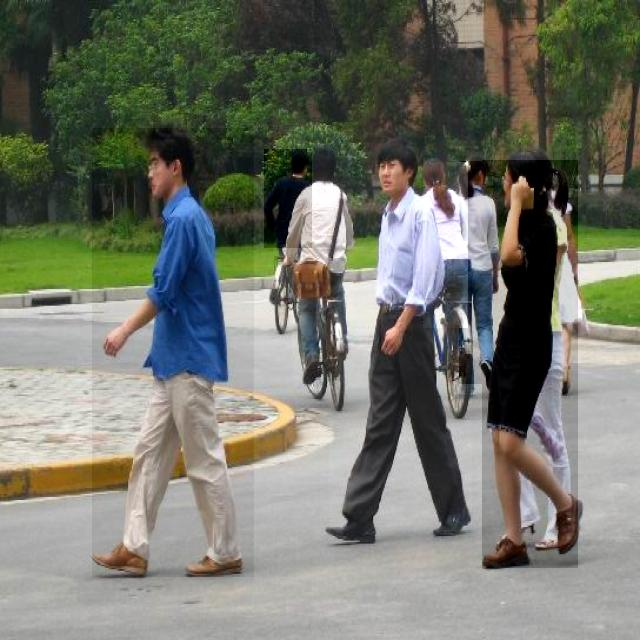with scooter: (92, 128, 254, 577), (329, 142, 472, 545), (482, 160, 578, 568), (292, 143, 353, 380), (459, 161, 496, 384), (423, 162, 468, 328), (264, 149, 312, 248)
